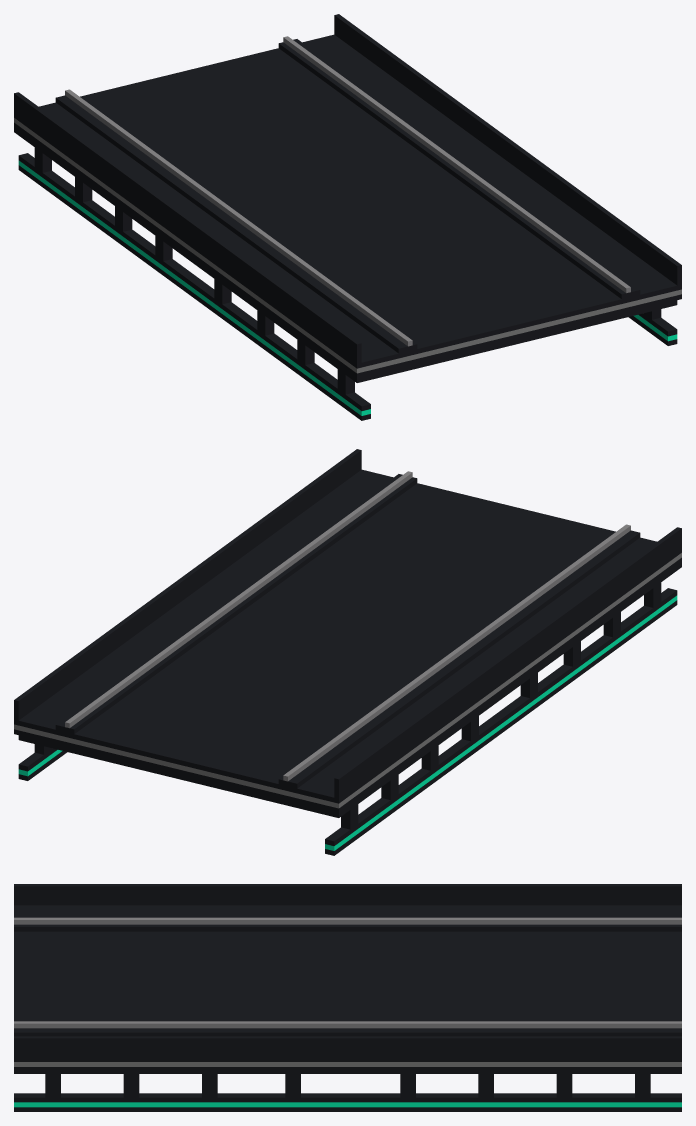
File: Rail_001.obj
3 views of the same model, one above another, from view 1: azimuth 30°, elevation 25°; view 2: azimuth 150°, elevation 25°; view 3: azimuth 270°, elevation 25° (orthographic). The views are drawn at different scales.
Size of the model in its own units: 7 by 1.6 by 12.8.
Materials: 1 (1 with a texture image).
